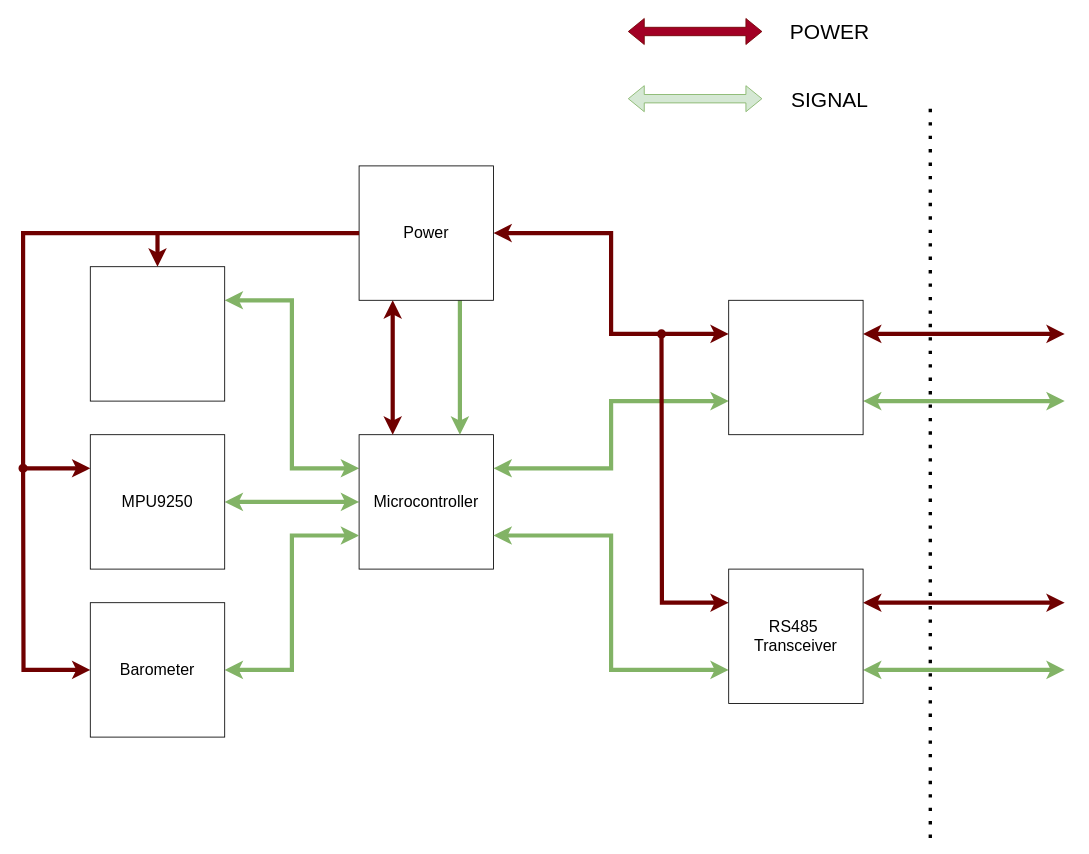
Image size: 1089x854. Some labels were removed from this diagram. Here are the shapes that lost their labels. From the top down, the centre of each, then its label:
At point 157,333: "GPS".
At point 795,367: "Controller Area Network (CAN FD)".
